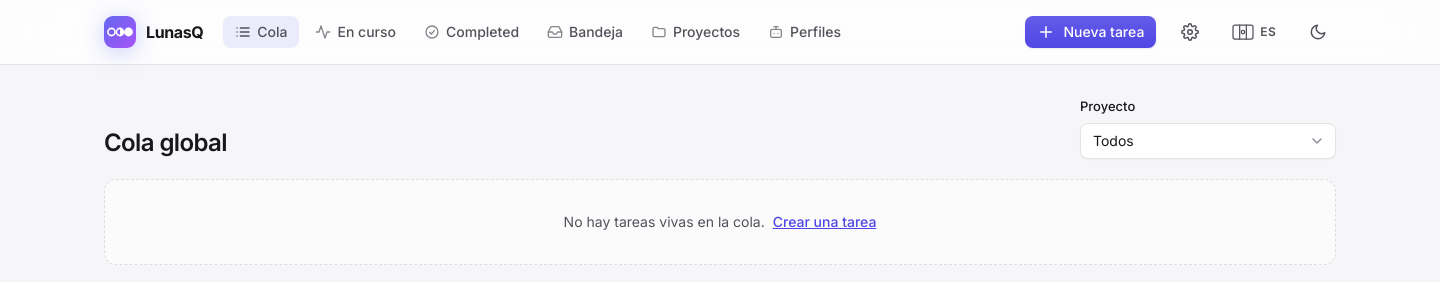
Scenario: language toggle › clicking again returns to Spanish and stores es
Click the button with aria-label "Cambiar a inglés": (1254, 32) [1224,14,1284,50]
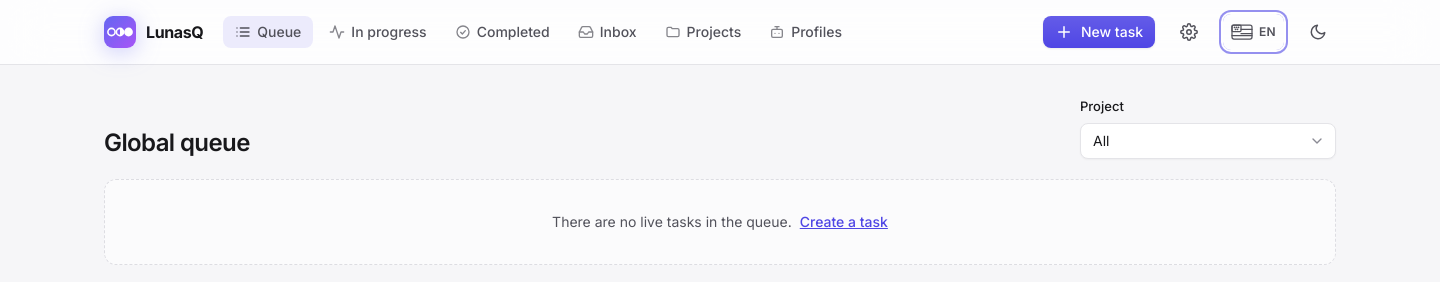
Click the button with aria-label "Switch to Spanish": (1254, 32) [1223,14,1284,50]
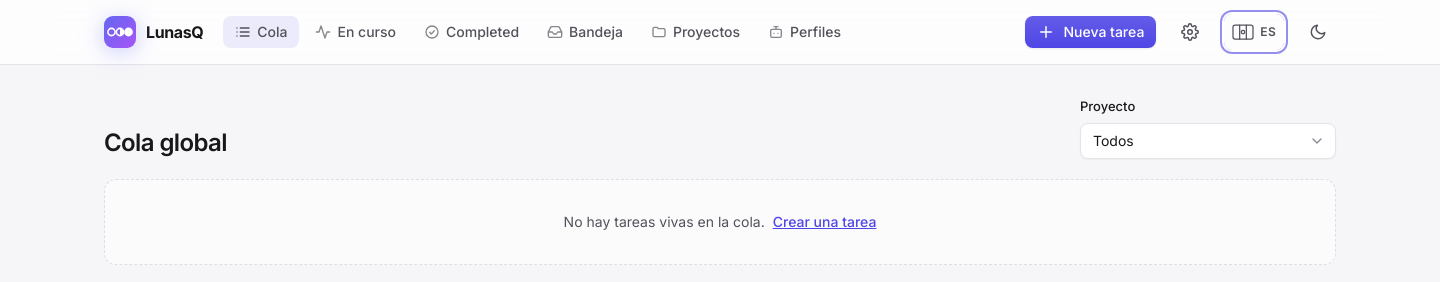
Expected: the button with aria-label "Cambiar a inglés" reads "ES", [1224,14,1284,50]
Expected: the heading "Cola global" is shown, [104,126,227,158]
